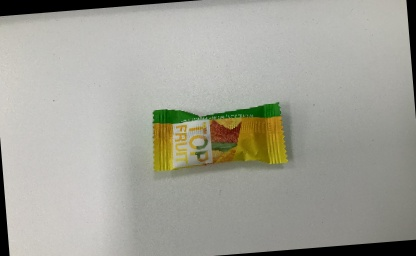jeli: (145, 95, 292, 179)
